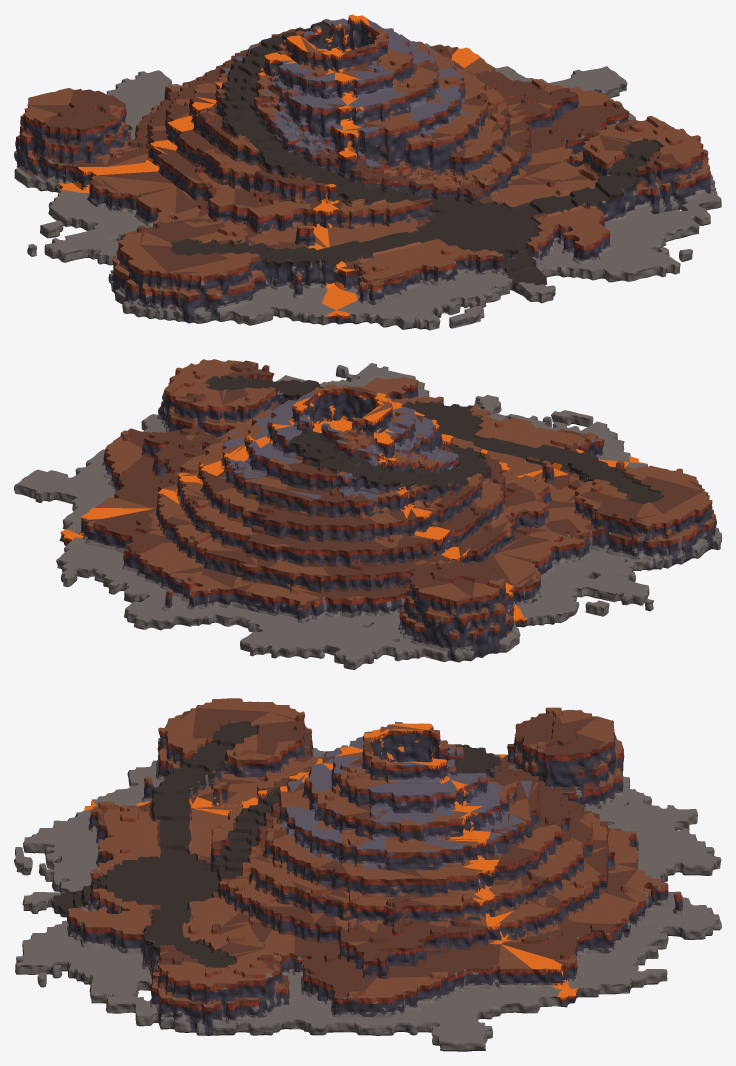
Rendered from VolcanicIsland_Terrain.fbx.
3 views of the same model, one above another, from view 1: azimuth 30°, elevation 25°; view 2: azimuth 150°, elevation 25°; view 3: azimuth 270°, elevation 25° (orthographic). The views are drawn at different scales.
Parts seen in each view (by area): view 1: VolcanicIsland_8_8_Grass, VolcanicIsland_7_8_Rock, VolcanicIsland_8_9_Dirt, VolcanicIsland_7_10_Beach, VolcanicIsland_9_10_Beach, VolcanicIsland_5_7_Beach, VolcanicIsland_8_8_Rock, VolcanicIsland_7_9_Grass, VolcanicIsland_6_8_Grass, VolcanicIsland_6_6_GrassDark, VolcanicIsland_7_8_Stone, VolcanicIsland_6_7_GrassDark (+86 smaller); view 2: VolcanicIsland_7_6_GrassDark, VolcanicIsland_7_6_Rock, VolcanicIsland_5_7_Beach, VolcanicIsland_7_5_Beach, VolcanicIsland_6_6_GrassDark, VolcanicIsland_8_6_Grass, VolcanicIsland_6_5_Beach, VolcanicIsland_8_5_Beach, VolcanicIsland_6_7_GrassDark, VolcanicIsland_8_6_Rock, VolcanicIsland_10_7_Beach, VolcanicIsland_6_8_Grass (+87 smaller); view 3: VolcanicIsland_9_7_GrassDark, VolcanicIsland_8_9_Dirt, VolcanicIsland_9_10_Beach, VolcanicIsland_8_8_Grass, VolcanicIsland_10_7_Beach, VolcanicIsland_9_7_Rock, VolcanicIsland_8_7_Stone, VolcanicIsland_9_8_GrassDark, VolcanicIsland_8_6_Grass, VolcanicIsland_7_10_Beach, VolcanicIsland_8_7_Rock, VolcanicIsland_10_8_Beach (+84 smaller).
Part boxes in pixels (x1,y1,x2,y2): VolcanicIsland_8_8_Grass: (374, 56, 514, 190); VolcanicIsland_7_8_Rock: (274, 57, 414, 227); VolcanicIsland_8_9_Dirt: (420, 187, 558, 249); VolcanicIsland_7_10_Beach: (385, 253, 504, 330); VolcanicIsland_9_10_Beach: (597, 214, 692, 281); VolcanicIsland_5_7_Beach: (40, 174, 162, 262); VolcanicIsland_8_8_Rock: (360, 54, 514, 198); VolcanicIsland_7_9_Grass: (327, 199, 462, 272); VolcanicIsland_6_8_Grass: (164, 142, 310, 245); VolcanicIsland_6_6_GrassDark: (60, 89, 197, 166); VolcanicIsland_7_8_Stone: (274, 70, 407, 169); VolcanicIsland_6_7_GrassDark: (98, 93, 235, 213); VolcanicIsland_7_6_GrassDark: (251, 452, 406, 600); VolcanicIsland_7_6_Rock: (257, 455, 394, 614); VolcanicIsland_5_7_Beach: (512, 545, 648, 624); VolcanicIsland_7_5_Beach: (223, 592, 359, 658); VolcanicIsland_6_6_GrassDark: (354, 517, 484, 614); VolcanicIsland_8_6_Grass: (163, 448, 303, 566); VolcanicIsland_6_5_Beach: (306, 618, 437, 669); VolcanicIsland_8_5_Beach: (124, 571, 239, 629); VolcanicIsland_6_7_GrassDark: (407, 482, 550, 585); VolcanicIsland_8_6_Rock: (173, 444, 303, 573); VolcanicIsland_10_7_Beach: (17, 440, 124, 508); VolcanicIsland_6_8_Grass: (470, 471, 607, 544); VolcanicIsland_9_7_GrassDark: (356, 852, 498, 972); VolcanicIsland_8_9_Dirt: (105, 857, 246, 919); VolcanicIsland_9_10_Beach: (15, 918, 142, 993); VolcanicIsland_8_8_Grass: (235, 766, 371, 916); VolcanicIsland_10_7_Beach: (360, 969, 495, 1045); VolcanicIsland_9_7_Rock: (363, 848, 486, 984); VolcanicIsland_8_7_Stone: (359, 753, 494, 852); VolcanicIsland_9_8_GrassDark: (249, 862, 372, 969); VolcanicIsland_8_6_Grass: (484, 772, 607, 921); VolcanicIsland_7_10_Beach: (14, 824, 114, 891); VolcanicIsland_8_7_Rock: (362, 749, 486, 865); VolcanicIsland_10_8_Beach: (239, 973, 373, 1035).
Size of the model in its own units: 401 by 87.01 by 374.
Materials: 8 (8 with a texture image).
